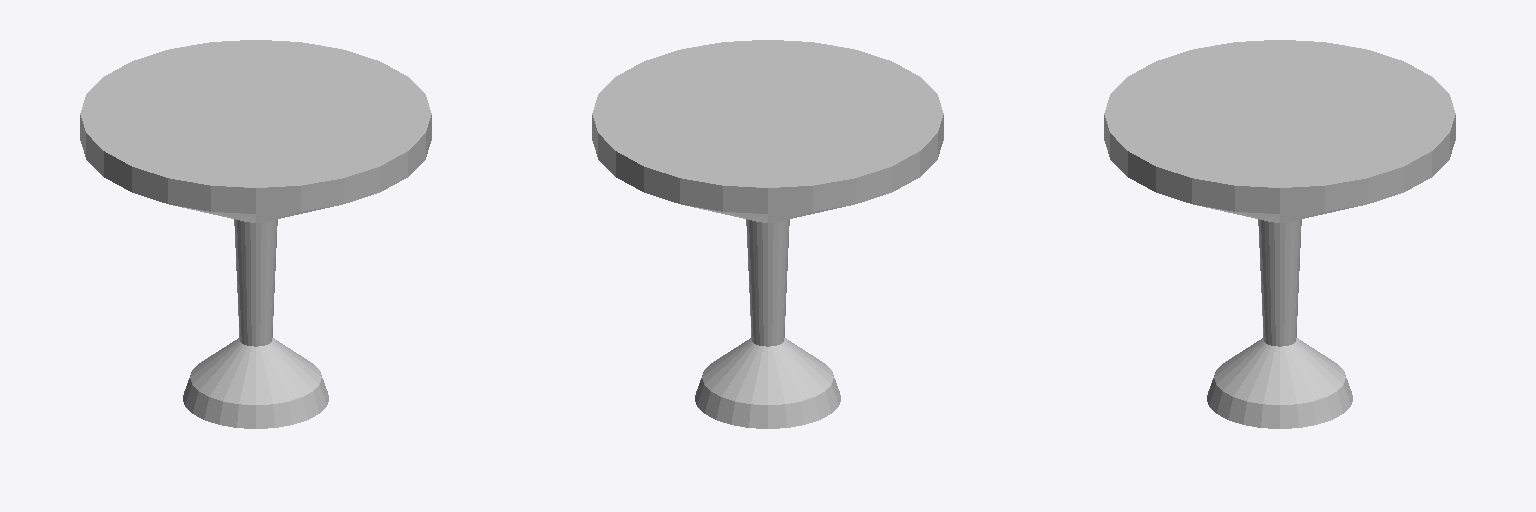
File: table_kitchen01.obj
3 renders of one model, left to right at view 1: azimuth 30°, elevation 25°; view 2: azimuth 150°, elevation 25°; view 3: azimuth 270°, elevation 25°, orthographic.
Parts seen in each view (by area): view 1: table_kitchen01-GRP-7370-Default_Material, table_kitchen01-GRP-7451-Default_Material, table_kitchen01-GRP-7542-Default_Material, table_kitchen01-GRP-7532-Default_Material; view 2: table_kitchen01-GRP-7370-Default_Material, table_kitchen01-GRP-7451-Default_Material, table_kitchen01-GRP-7542-Default_Material, table_kitchen01-GRP-7532-Default_Material; view 3: table_kitchen01-GRP-7370-Default_Material, table_kitchen01-GRP-7451-Default_Material, table_kitchen01-GRP-7542-Default_Material, table_kitchen01-GRP-7532-Default_Material.
Part boxes in pixels (x1,y1,x2,y2): table_kitchen01-GRP-7370-Default_Material: (87,42,424,185); table_kitchen01-GRP-7451-Default_Material: (80,40,431,222); table_kitchen01-GRP-7542-Default_Material: (183,338,328,428); table_kitchen01-GRP-7532-Default_Material: (234,219,277,346); table_kitchen01-GRP-7370-Default_Material: (599,42,936,185); table_kitchen01-GRP-7451-Default_Material: (592,40,943,222); table_kitchen01-GRP-7542-Default_Material: (695,338,840,428); table_kitchen01-GRP-7532-Default_Material: (746,219,789,346); table_kitchen01-GRP-7370-Default_Material: (1156,61,1403,165); table_kitchen01-GRP-7451-Default_Material: (1104,40,1455,222); table_kitchen01-GRP-7542-Default_Material: (1207,338,1352,428); table_kitchen01-GRP-7532-Default_Material: (1258,219,1301,346).
Size of the model in its own units: 2.09 by 1.87 by 2.09.